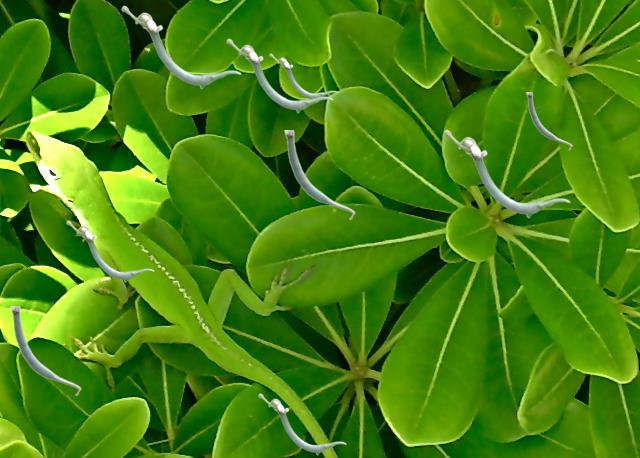french_bean: (443, 129, 569, 217), (121, 5, 240, 88), (226, 38, 332, 112), (10, 306, 80, 395), (284, 130, 354, 219), (258, 393, 345, 454), (66, 220, 153, 281), (269, 53, 337, 97), (526, 92, 571, 149)
